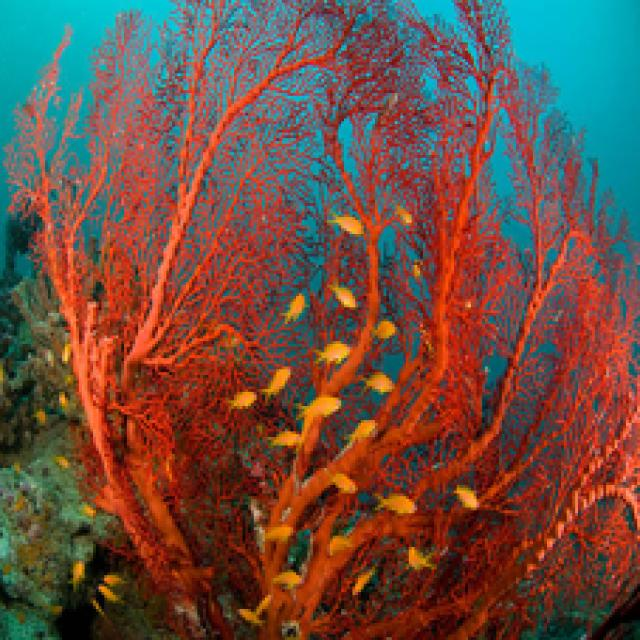Healthy: (7, 1, 638, 638)
